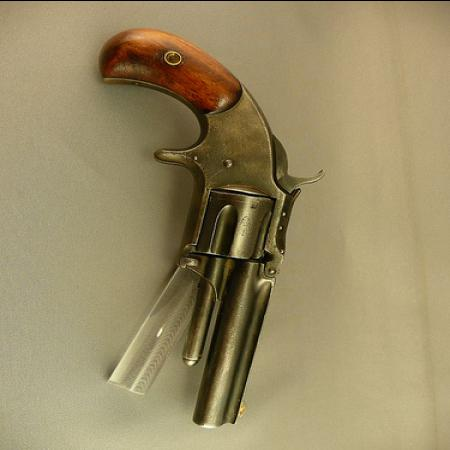Pistol: (100, 26, 328, 426)
